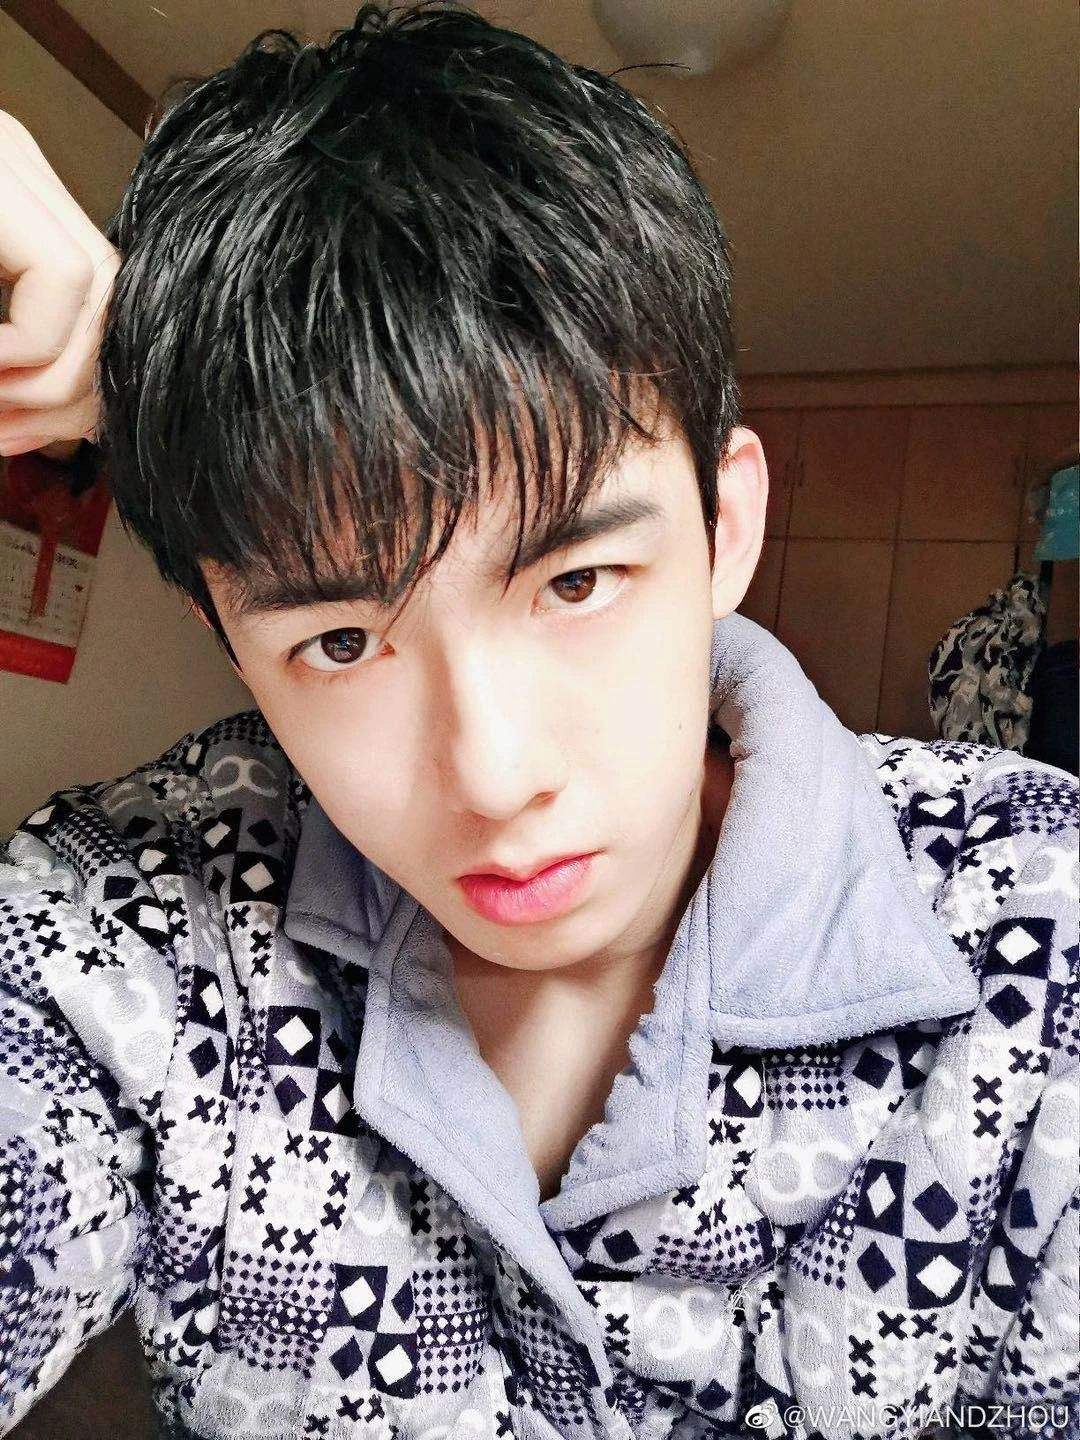person: (130, 64, 1056, 1393)
